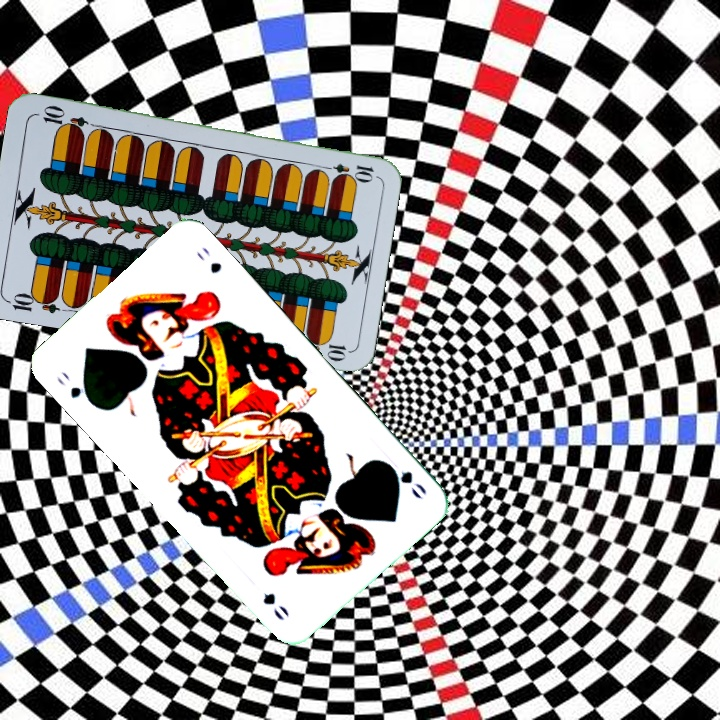E10: (2, 288, 61, 316), (317, 159, 376, 182)
GO: (379, 457, 430, 502), (52, 367, 98, 409)
